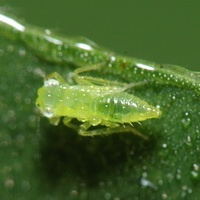insect: (36, 64, 160, 138)
